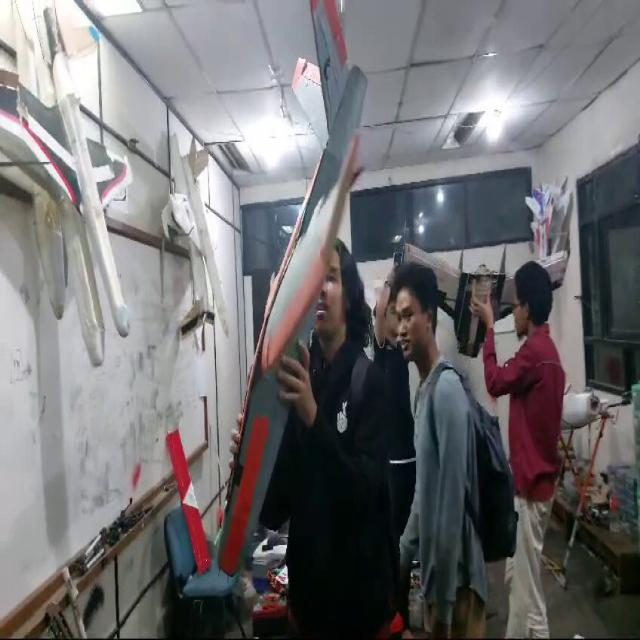plane: (202, 0, 418, 588)
